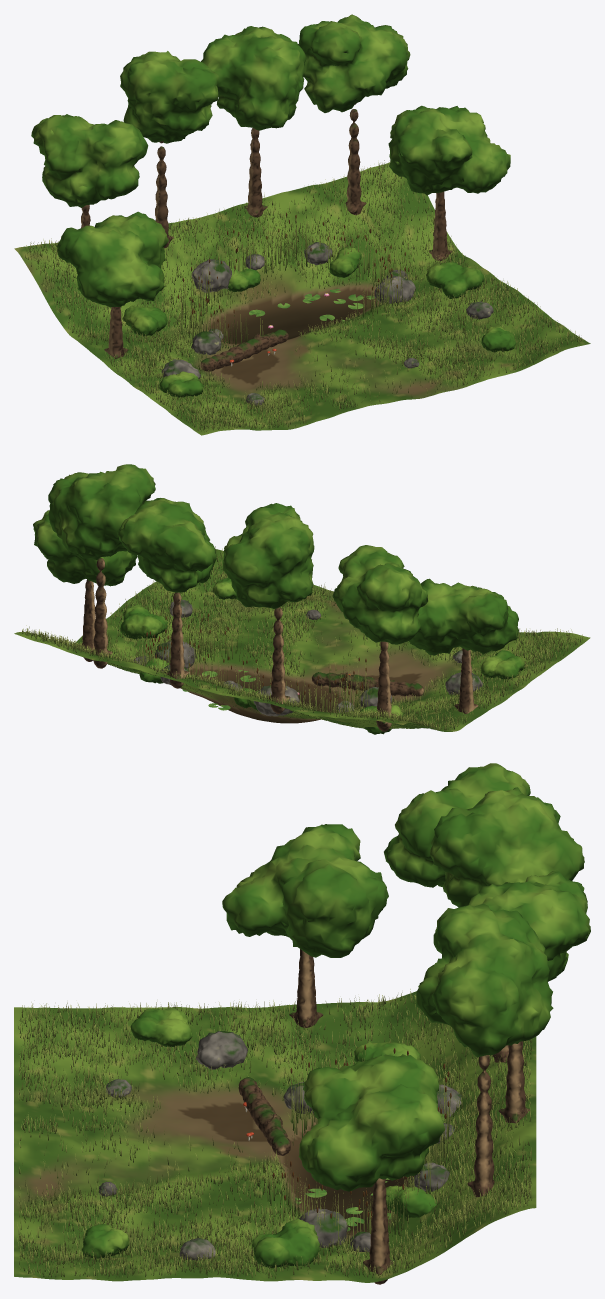
Rendered from pond.glb.
The picture shows the model from 3 angles, top to bottom: view 1: azimuth 30°, elevation 25°; view 2: azimuth 150°, elevation 25°; view 3: azimuth 270°, elevation 25°; orthographic projection. The views are drawn at different scales.
Parts seen in each view (by area): view 1: Terrain, Grass, Tree_4_Crown, Tree_0_Crown, Tree_3_Crown, Tree_2_Crown, Tree_5_Crown, Tree_1_Crown, Bush_3, Log, Tree_3_Trunk, Tree_2_Trunk (+12 smaller); view 2: Terrain, Grass, Tree_1_Crown, Tree_3_Crown, Tree_0_Crown, Tree_2_Crown, Tree_5_Crown, Tree_4_Crown, Log, Bush_3, Tree_1_Trunk, Tree_3_Trunk (+11 smaller); view 3: Terrain, Grass, Tree_4_Crown, Tree_3_Crown, Tree_5_Crown, Tree_1_Crown, Tree_0_Crown, Tree_2_Crown, Bush_3, Tree_3_Trunk, Bush_4, Log (+9 smaller).
Boxes of the visible parts, box(x1,y1,x2,y2) form: Terrain: box(14, 162, 590, 435); Grass: box(24, 160, 581, 431); Tree_4_Crown: box(388, 105, 510, 195); Tree_0_Crown: box(31, 114, 148, 207); Tree_3_Crown: box(298, 14, 410, 112); Tree_2_Crown: box(201, 26, 306, 130); Tree_5_Crown: box(57, 211, 168, 307); Tree_1_Crown: box(120, 51, 218, 143); Bush_3: box(426, 261, 484, 298); Log: box(200, 329, 288, 371); Tree_3_Trunk: box(345, 103, 366, 215); Tree_2_Trunk: box(244, 128, 267, 217); Terrain: box(14, 549, 590, 731); Grass: box(22, 546, 582, 730); Tree_1_Crown: box(222, 503, 314, 608); Tree_3_Crown: box(48, 464, 155, 559); Tree_0_Crown: box(332, 545, 427, 644); Tree_2_Crown: box(118, 498, 216, 592); Tree_5_Crown: box(409, 578, 518, 655); Tree_4_Crown: box(33, 510, 137, 586); Log: box(312, 672, 423, 696); Bush_3: box(120, 604, 167, 639); Tree_1_Trunk: box(267, 607, 290, 713); Tree_3_Trunk: box(90, 558, 112, 668); Terrain: box(14, 991, 536, 1282); Grass: box(17, 989, 532, 1278); Tree_4_Crown: box(298, 1054, 444, 1191); Tree_3_Crown: box(416, 904, 553, 1057); Tree_5_Crown: box(222, 824, 388, 957); Tree_1_Crown: box(429, 787, 584, 907); Tree_0_Crown: box(384, 763, 530, 887); Tree_2_Crown: box(468, 870, 590, 981); Bush_3: box(251, 1218, 319, 1268); Tree_3_Trunk: box(467, 1055, 494, 1197); Bush_4: box(130, 1008, 192, 1047); Log: box(238, 1077, 290, 1155).
Bounding box in the file's own units: 13.86 × 7.46 × 11.04.
